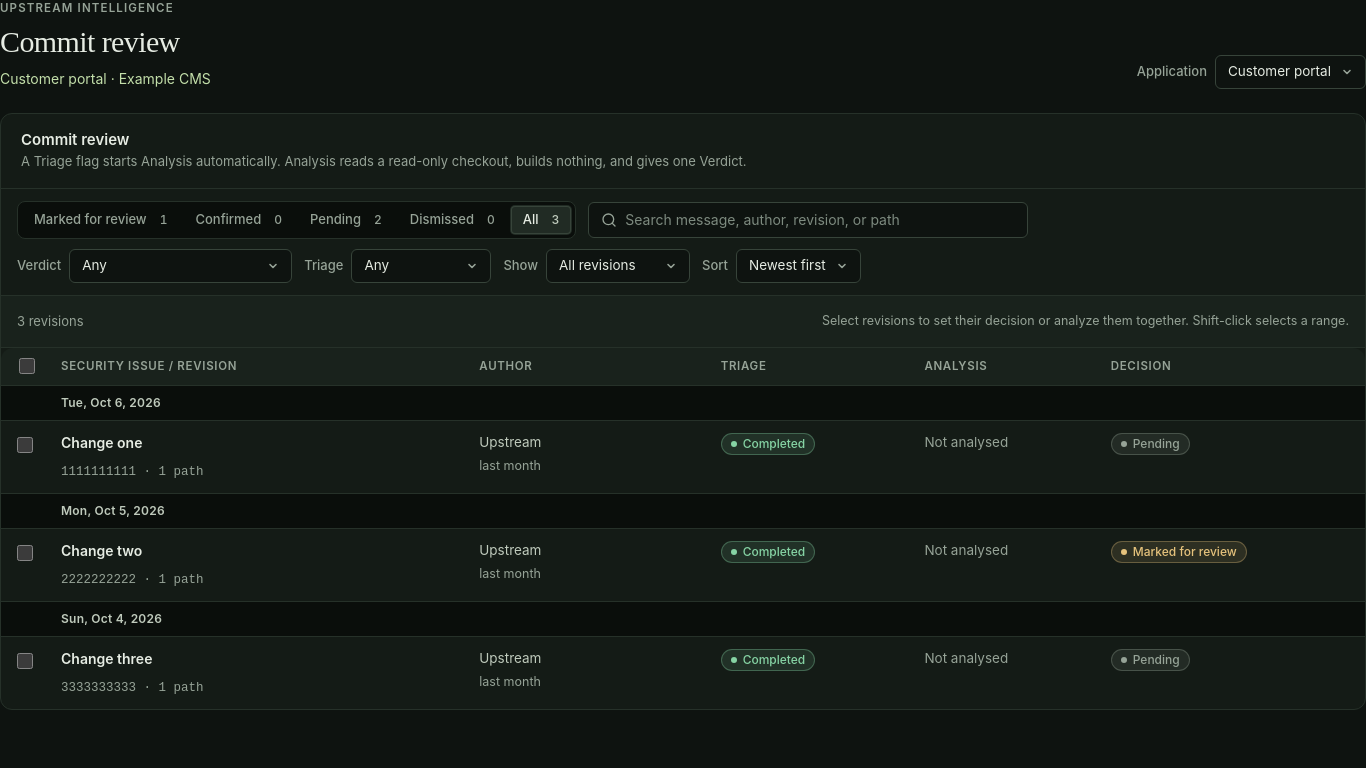
it: queues a detailed analysis for each selected revision and reports skipped ones
Click the checkbox named "Select all shown revisions" at x=27, y=366, box x1=19 y1=358 x2=35 y2=374
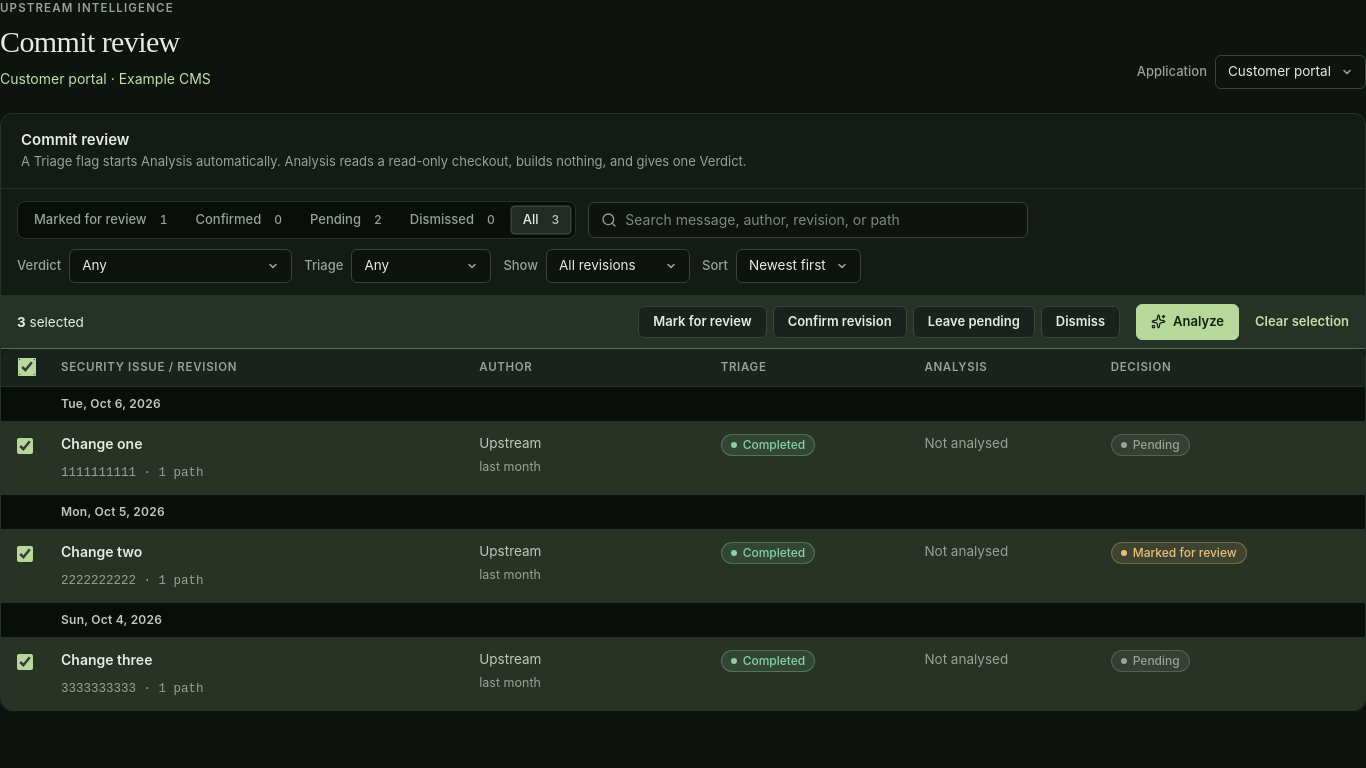
Click the button "Analyze" at x=1188, y=322, box x1=1136 y1=304 x2=1239 y2=340
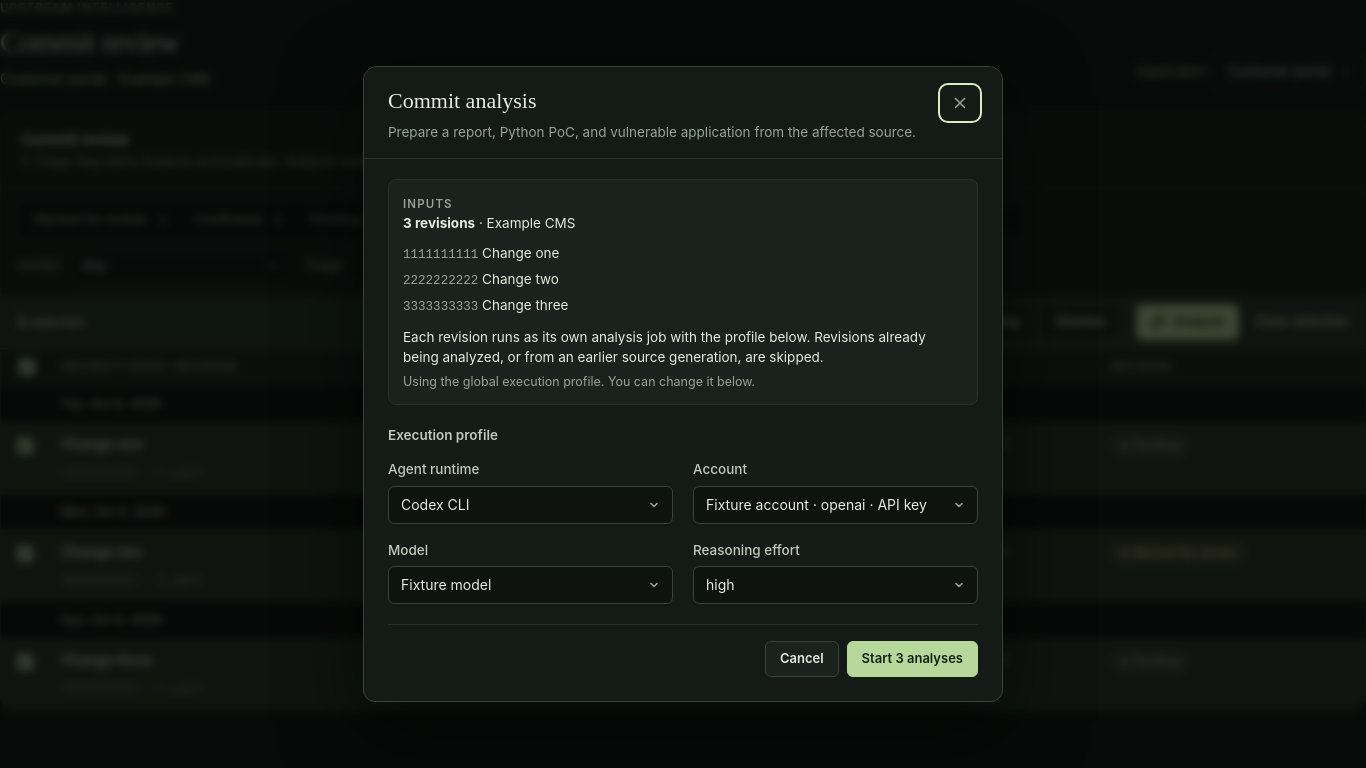
Check: the text "3 revisions" is shown, box x1=403 y1=215 x2=475 y2=231
Check: the list item "Change one" is shown, box x1=482 y1=245 x2=559 y2=261
Click the button "Start 3 analyses" at x=912, y=659, box x1=847 y1=641 x2=978 y2=677
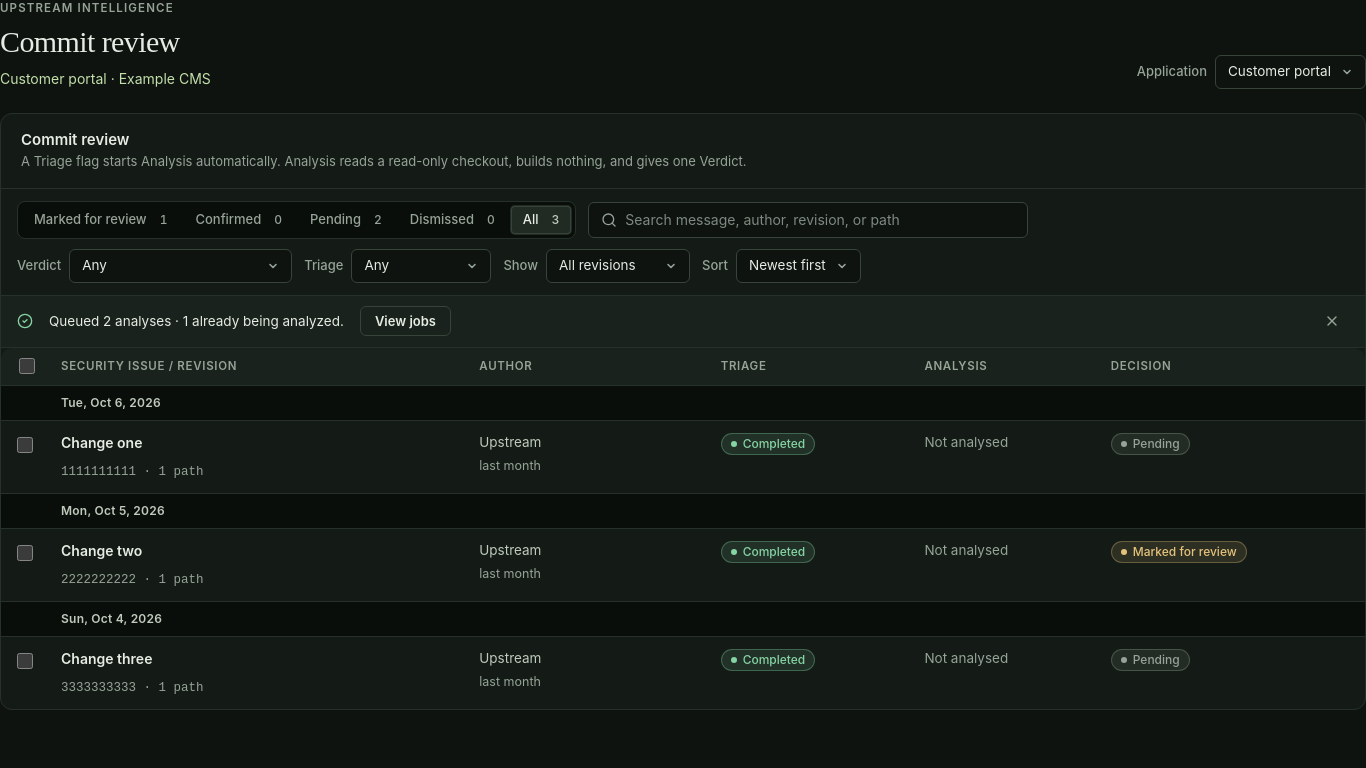
Check: the text "Queued 2 analyses · 1 already being analyzed." is shown, box x1=49 y1=311 x2=344 y2=331
Check: the dialog is gone
Check: the checkbox named "Select Change one" is not checked, box x1=17 y1=437 x2=33 y2=453
